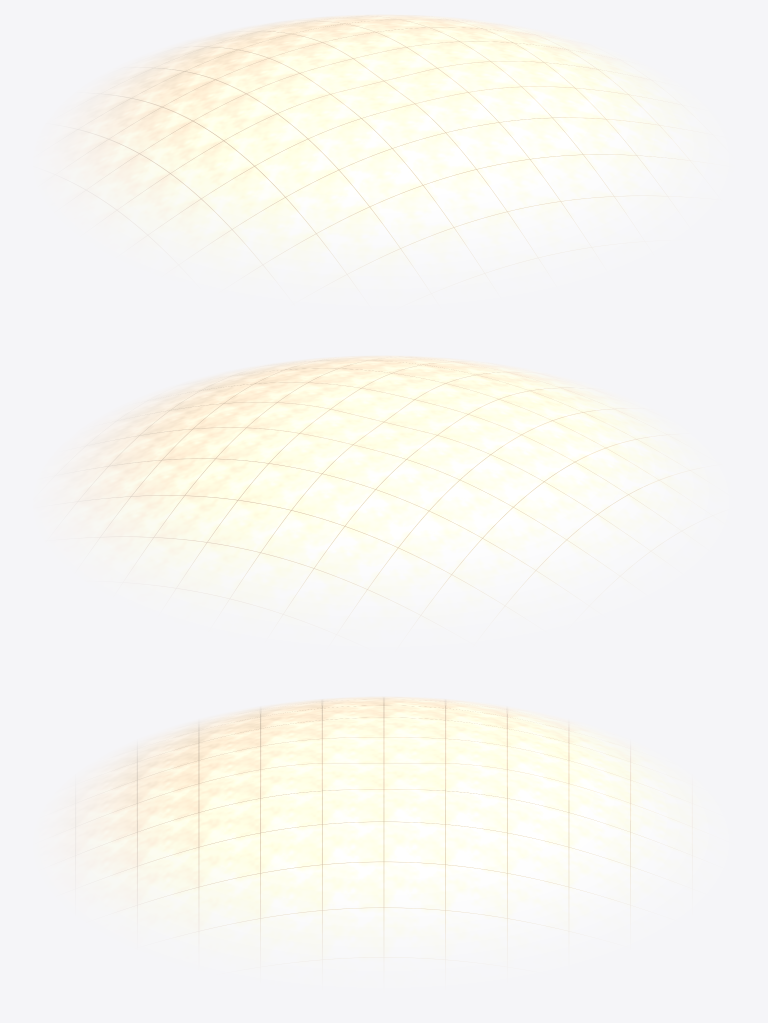
File: piso_moderno_arena.glb
3 renders of one model, top to bottom at view 1: azimuth 30°, elevation 25°; view 2: azimuth 150°, elevation 25°; view 3: azimuth 270°, elevation 25°, orthographic.
Visible parts, largest first — view 1: piso_curvo; view 2: piso_curvo; view 3: piso_curvo.
Boxes of the visible parts, box(x1,y1,x2,y2) form: piso_curvo: box(59, 14, 708, 288); piso_curvo: box(59, 355, 708, 629); piso_curvo: box(59, 696, 708, 970).
Bounding box in the file's own units: 120 × 16 × 120.
1 material, 1 textured.
